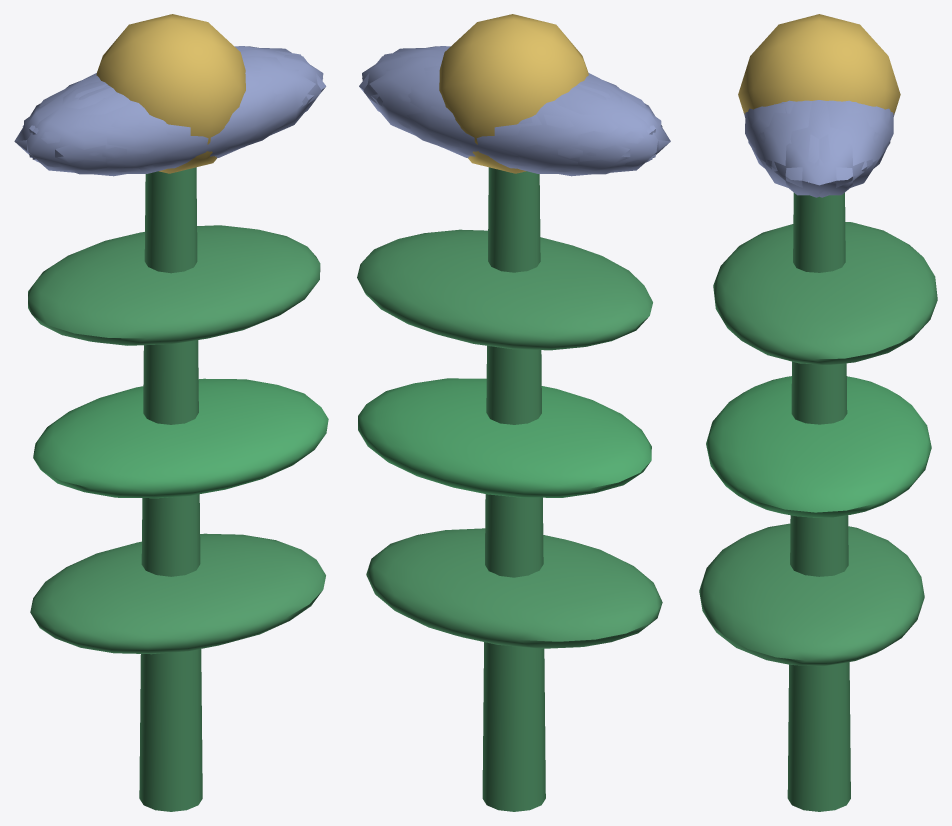
The model's file is jatropha-integerrima.glb.
3 renders of one model, left to right at view 1: azimuth 30°, elevation 25°; view 2: azimuth 150°, elevation 25°; view 3: azimuth 270°, elevation 25°, orthographic.
Visible parts, largest first — view 1: leaf0, leaf1, leaf2, stem, center, petal6, petal2, petal1, petal5, petal7, petal0; view 2: leaf2, leaf1, leaf0, stem, center, petal3, petal7, petal8, petal4, petal2, petal0; view 3: leaf2, leaf1, leaf0, stem, center, petal0, petal4, petal5, petal8, petal1.
Part boxes in pixels (x1,y1,x2,y2): leaf0: (30, 533, 325, 654); leaf1: (33, 378, 328, 498); leaf2: (28, 225, 320, 345); stem: (139, 167, 202, 811); center: (96, 14, 245, 173); petal6: (32, 86, 232, 174); petal2: (24, 81, 177, 176); petal1: (102, 65, 308, 172); petal5: (166, 55, 326, 164); petal7: (14, 75, 115, 167); petal0: (239, 48, 323, 147); leaf2: (357, 229, 652, 350); leaf1: (358, 378, 651, 497); leaf0: (366, 528, 662, 648); stem: (482, 167, 545, 811); center: (439, 14, 588, 173); petal3: (453, 86, 652, 174); petal7: (507, 81, 661, 176); petal8: (376, 65, 582, 172); petal4: (359, 55, 519, 164); petal2: (569, 75, 670, 167); petal0: (362, 48, 446, 147); leaf2: (713, 222, 937, 364); leaf1: (706, 376, 931, 517); leaf0: (699, 523, 924, 666); stem: (787, 193, 850, 811); center: (738, 14, 900, 114); petal0: (759, 100, 879, 195); petal4: (807, 100, 890, 197); petal5: (748, 100, 831, 197); petal8: (843, 100, 893, 169); petal1: (745, 100, 795, 169).
Bounding box in the file's own units: 0.1541 × 0.3798 × 0.1056.
